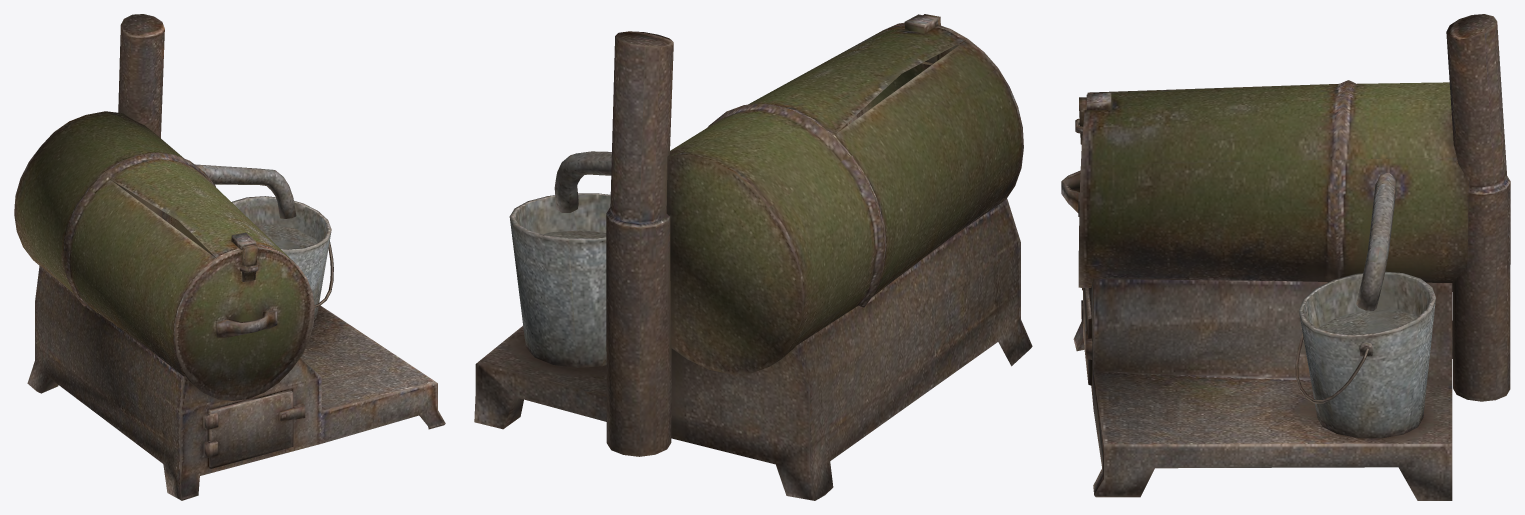
File: tripo_convert_46709b8b-8858-43d1-b89f-45f7ddf23ac0.fbx
The picture shows the model from 3 angles, left to right: view 1: azimuth 30°, elevation 25°; view 2: azimuth 150°, elevation 25°; view 3: azimuth 270°, elevation 25°; orthographic projection. The views are drawn at different scales.
Parts seen in each view (by area): view 1: tripo_node_46709b8b; view 2: tripo_node_46709b8b; view 3: tripo_node_46709b8b.
Part boxes in pixels (x1,y1,x2,y2): tripo_node_46709b8b: (14, 14, 445, 500); tripo_node_46709b8b: (474, 14, 1032, 500); tripo_node_46709b8b: (1061, 14, 1510, 500).
Size of the model in its own units: 0.854 by 0.981 by 0.9995.
